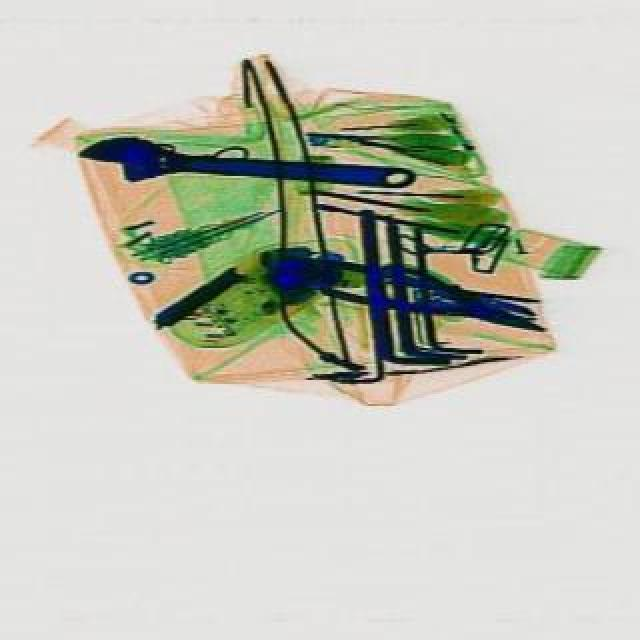scissors: (72, 130, 410, 198)
wrench: (308, 250, 544, 346)
